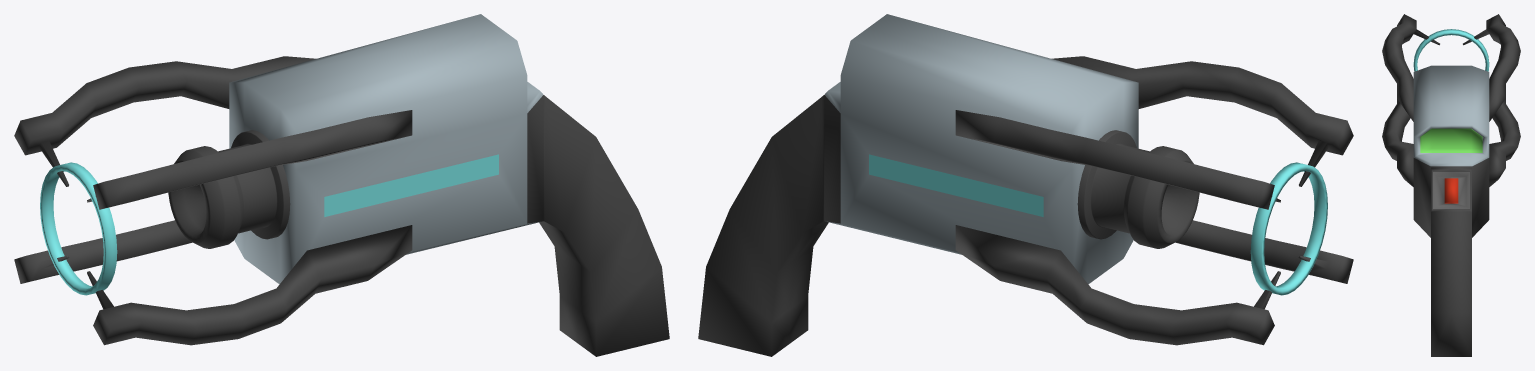
The model's file is Portal Gun Mk2 002.fbx.
3 views of the same model, side by side, from view 1: azimuth 30°, elevation 25°; view 2: azimuth 150°, elevation 25°; view 3: azimuth 270°, elevation 25° (orthographic). The views are drawn at different scales.
Parts seen in each view (by area): view 1: Cube; view 2: Cube; view 3: Cube.
Boxes of the visible parts, x1,y1,x2,y2 form: Cube: (14, 14, 669, 356); Cube: (698, 14, 1353, 356); Cube: (1382, 14, 1520, 356).
Size of the model in its own units: 1121 by 610 by 404.
